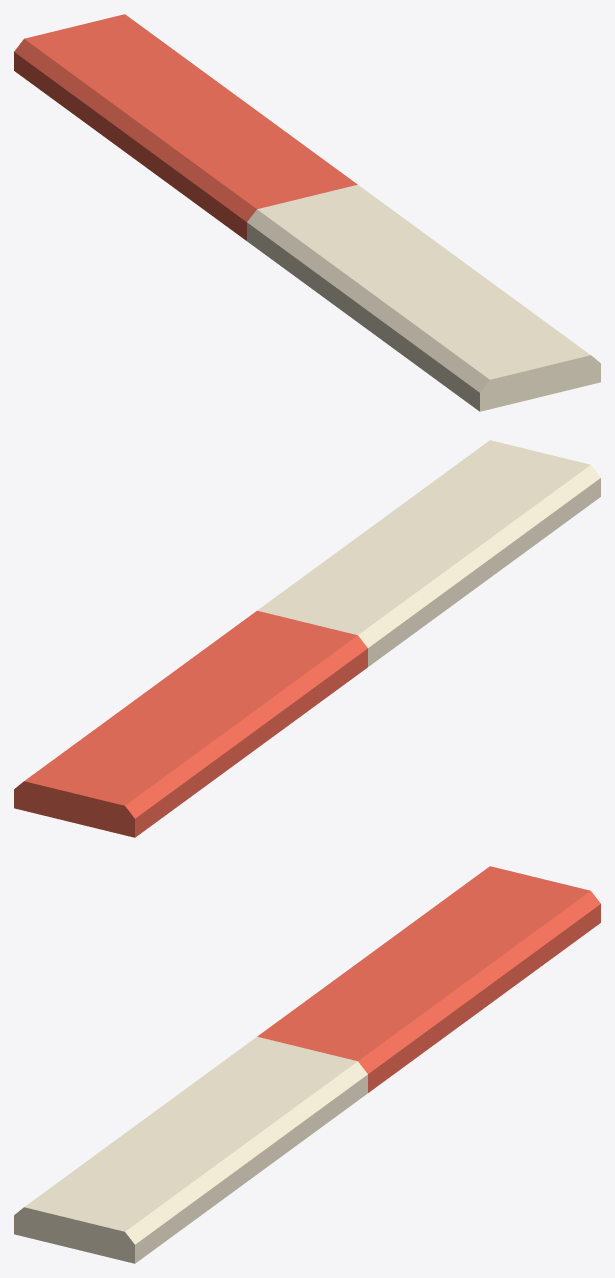
The model's file is kerb-4m.glb.
3 renders of one model, top to bottom at view 1: azimuth 30°, elevation 25°; view 2: azimuth 150°, elevation 25°; view 3: azimuth 330°, elevation 25°, orthographic.
Visible parts, largest first — view 1: kerb-4m; view 2: kerb-4m; view 3: kerb-4m.
Boxes of the visible parts, bbox=[...] form: kerb-4m: bbox=[14, 14, 600, 411]; kerb-4m: bbox=[14, 440, 600, 837]; kerb-4m: bbox=[14, 866, 600, 1263].
Bounding box in the file's own units: 0.6 × 0.14 × 4.
